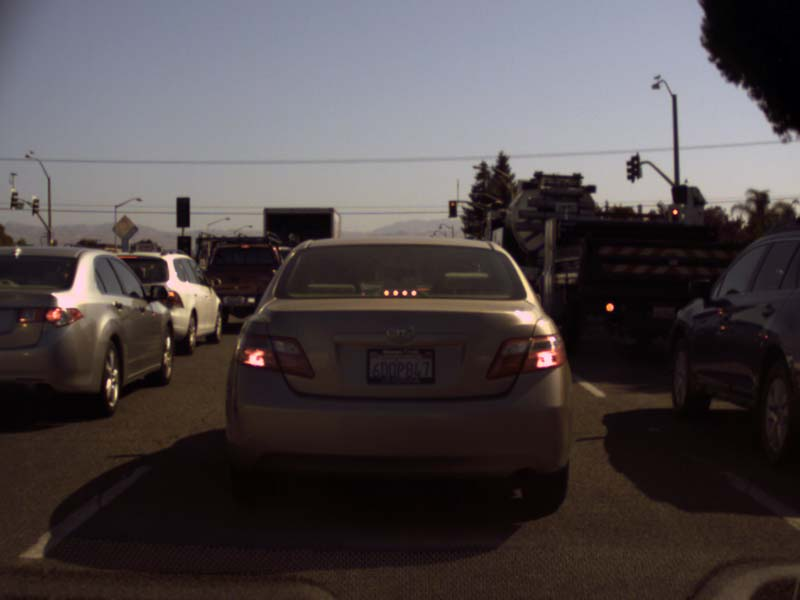Red: (449, 201, 455, 216), (672, 209, 678, 223)
